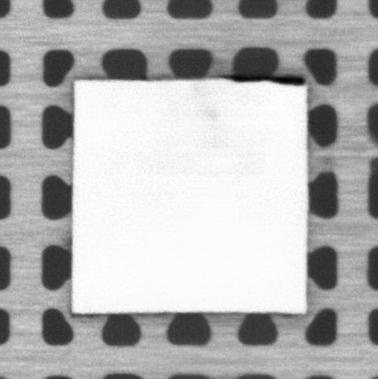DIE_BROKEN: (222, 74, 306, 86)
